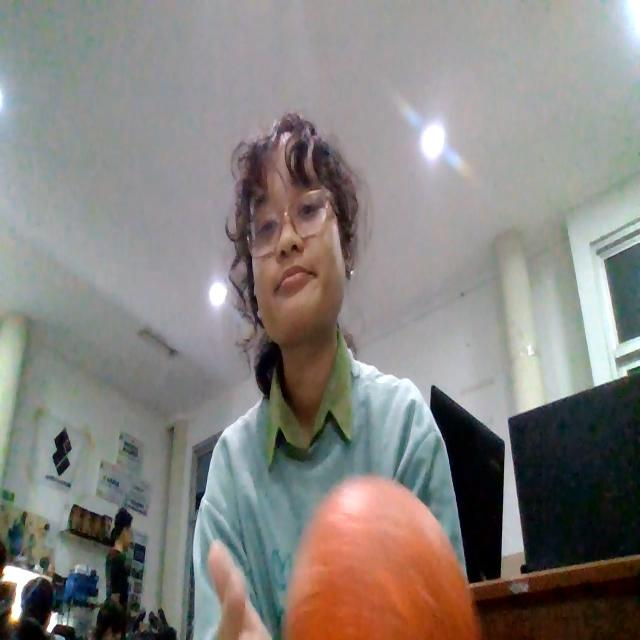ball: (284, 474, 482, 638)
